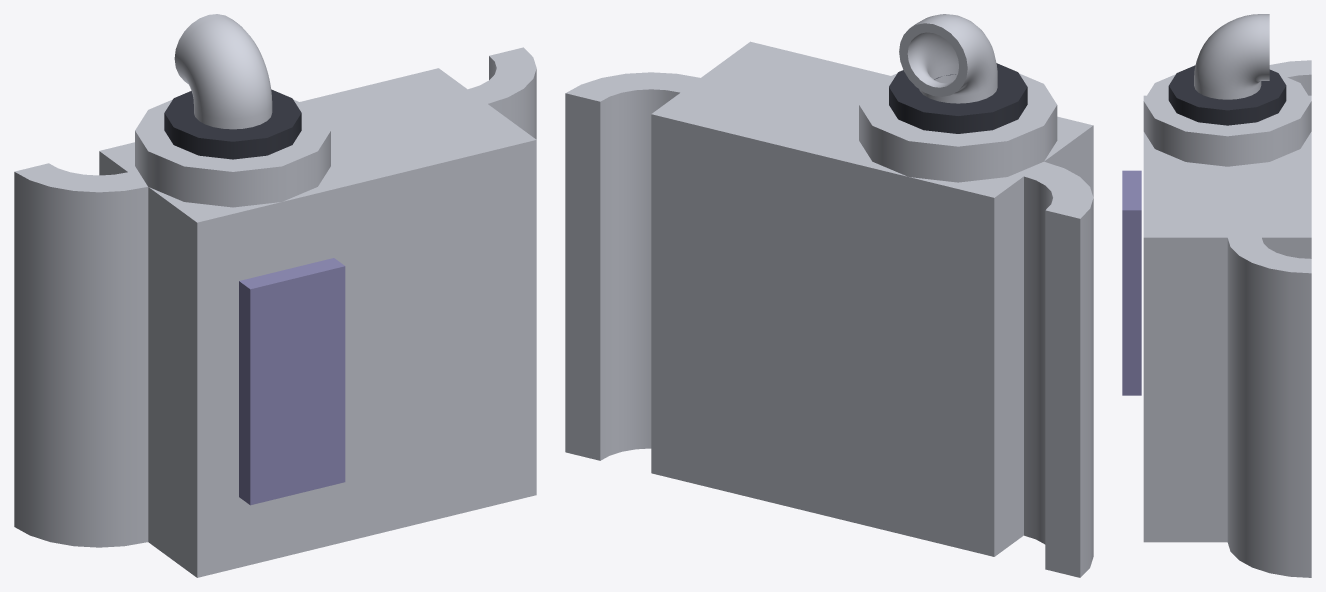
File: Vending Machine Test.fbx
3 views of the same model, side by side, from view 1: azimuth 30°, elevation 25°; view 2: azimuth 150°, elevation 25°; view 3: azimuth 270°, elevation 25° (orthographic). The views are drawn at different scales.
Visible parts, largest first — view 1: mergedBlocks; view 2: mergedBlocks; view 3: mergedBlocks.
Boxes of the visible parts, left/top/right/bottom form: mergedBlocks: left=14, top=14, right=536, bottom=577; mergedBlocks: left=565, top=14, right=1093, bottom=577; mergedBlocks: left=1122, top=14, right=1311, bottom=577.
Bounding box in the file's own units: 30 × 27.5 × 11.27.
